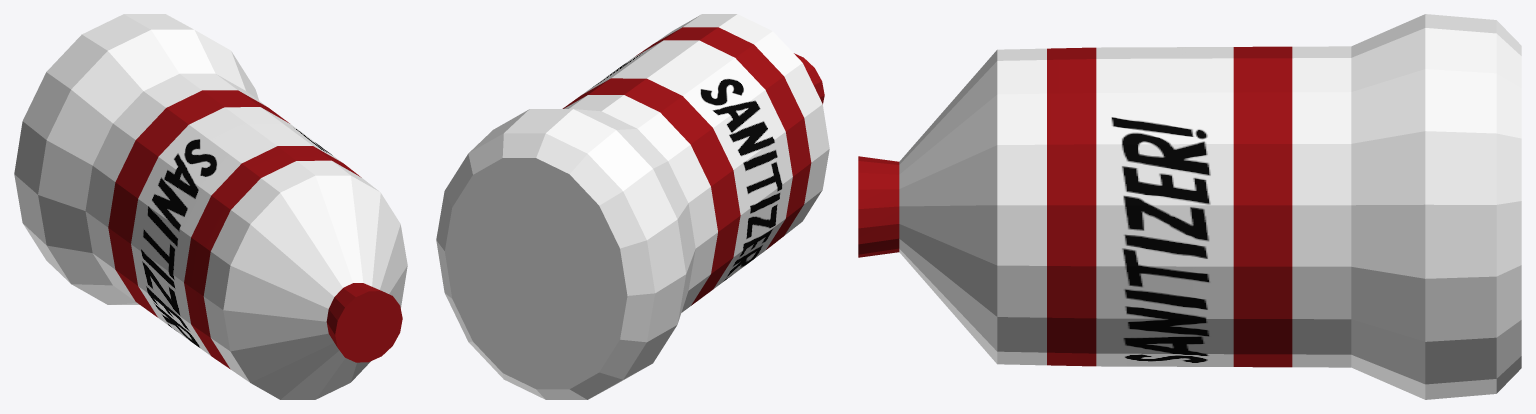
File: Sanitizer.002.obj
3 views of the same model, side by side, from view 1: azimuth 30°, elevation 25°; view 2: azimuth 150°, elevation 25°; view 3: azimuth 270°, elevation 25° (orthographic). The views are drawn at different scales.
Visible parts, largest first — view 1: Sanitizer.002; view 2: Sanitizer.002; view 3: Sanitizer.002.
Boxes of the visible parts, x1,y1,x2,y2 form: Sanitizer.002: [14, 14, 407, 399]; Sanitizer.002: [436, 14, 829, 399]; Sanitizer.002: [858, 14, 1521, 399].
Size of the model in its own units: 0.244 by 0.2837 by 0.476.
1 material, 1 textured.
